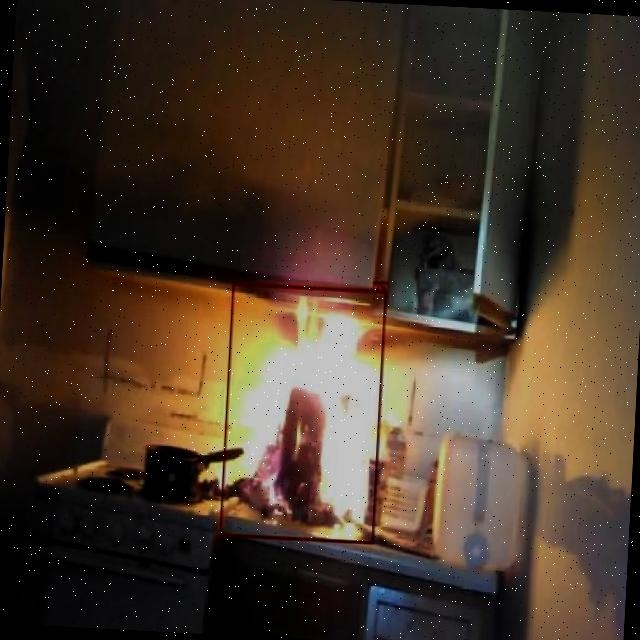fire: (220, 282, 387, 544)
